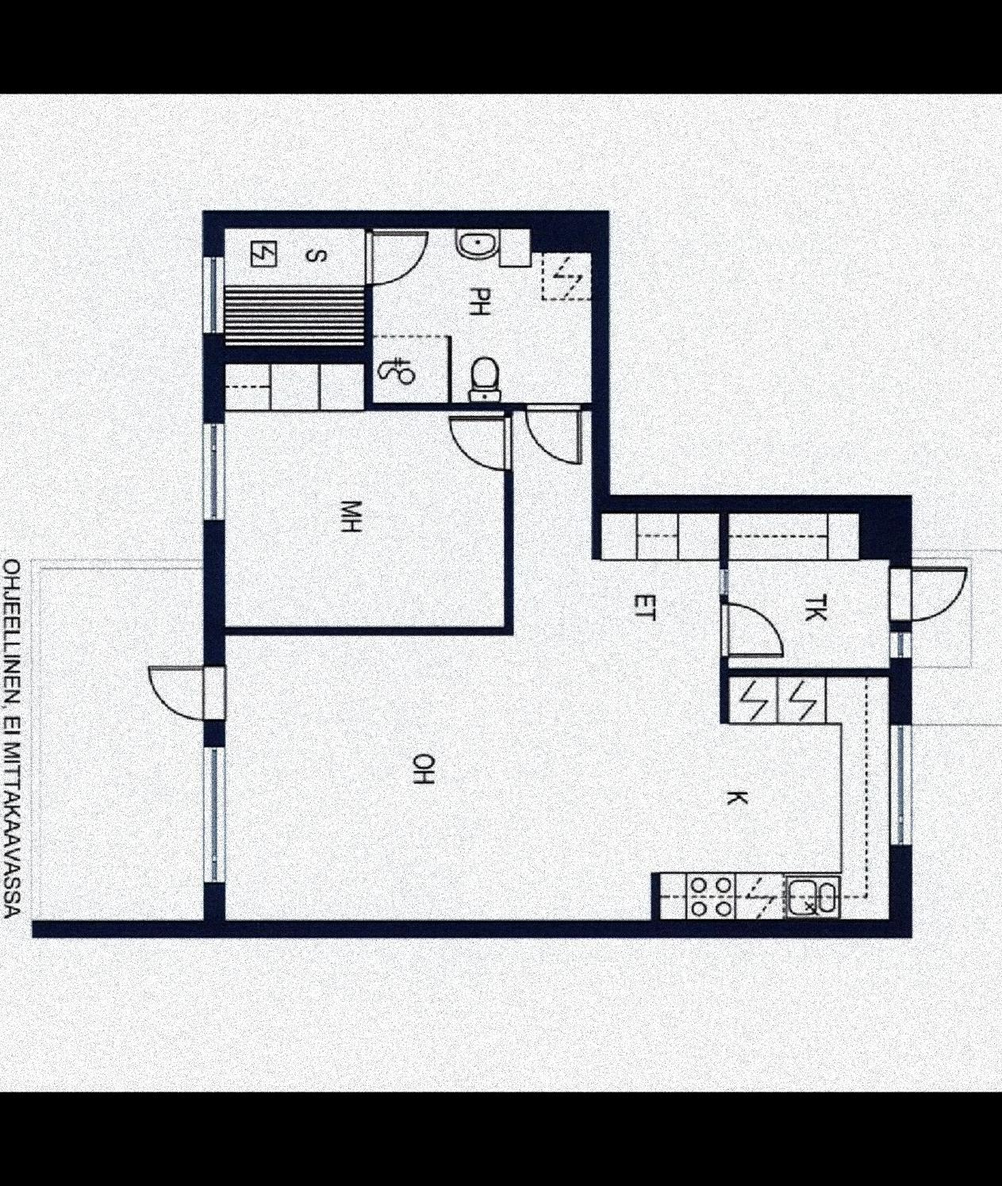door: (888, 556, 976, 624), (142, 659, 224, 723), (717, 603, 787, 662), (526, 401, 586, 464), (451, 415, 517, 472), (367, 228, 430, 286)
window: (885, 721, 912, 844), (204, 745, 226, 882), (198, 260, 224, 334), (204, 428, 223, 517), (890, 636, 909, 661)
zone: (226, 404, 894, 923), (226, 355, 502, 629), (37, 567, 202, 923), (372, 225, 595, 402), (729, 507, 888, 670), (223, 228, 365, 350)
